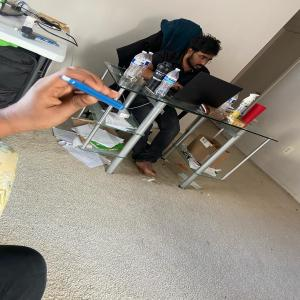Diamond-E-Ciggirate: (57, 70, 130, 112)
